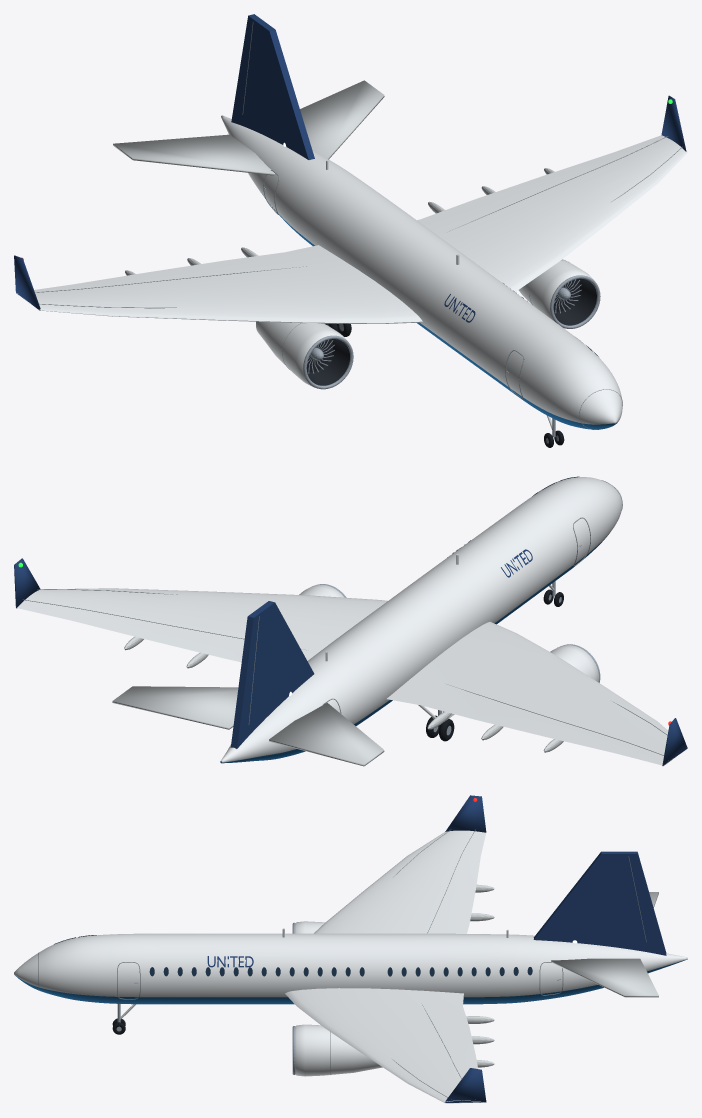
Rendered from airline-united-realism.glb.
3 views of the same model, one above another, from view 1: azimuth 30°, elevation 25°; view 2: azimuth 150°, elevation 25°; view 3: azimuth 270°, elevation 25° (orthographic). The views are drawn at different scales.
Parts seen in each view (by area): view 1: airline-united-realism Static Batch; view 2: airline-united-realism Static Batch; view 3: airline-united-realism Static Batch.
Part boxes in pixels (x1,y1,x2,y2): airline-united-realism Static Batch: [14, 14, 687, 447]; airline-united-realism Static Batch: [14, 476, 687, 766]; airline-united-realism Static Batch: [14, 795, 687, 1103].
Bounding box in the file's own units: 11.58 × 3.54 × 12.04.
